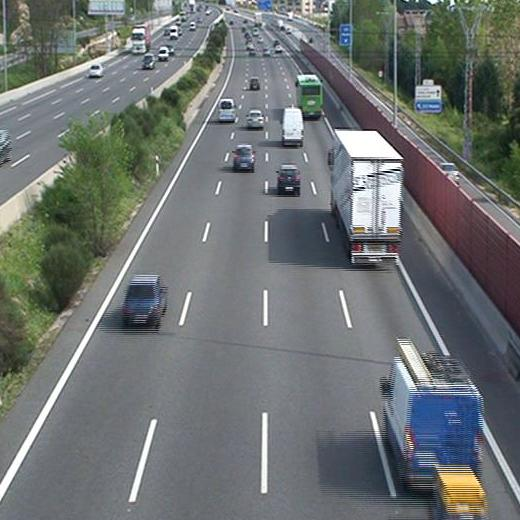bus: (294, 74, 324, 119)
car: (121, 274, 170, 332), (276, 164, 301, 193), (231, 144, 257, 170), (246, 109, 265, 129), (248, 76, 260, 91)
truck: (327, 129, 405, 271)
van: (379, 340, 486, 495), (280, 108, 305, 147), (218, 98, 236, 121)
